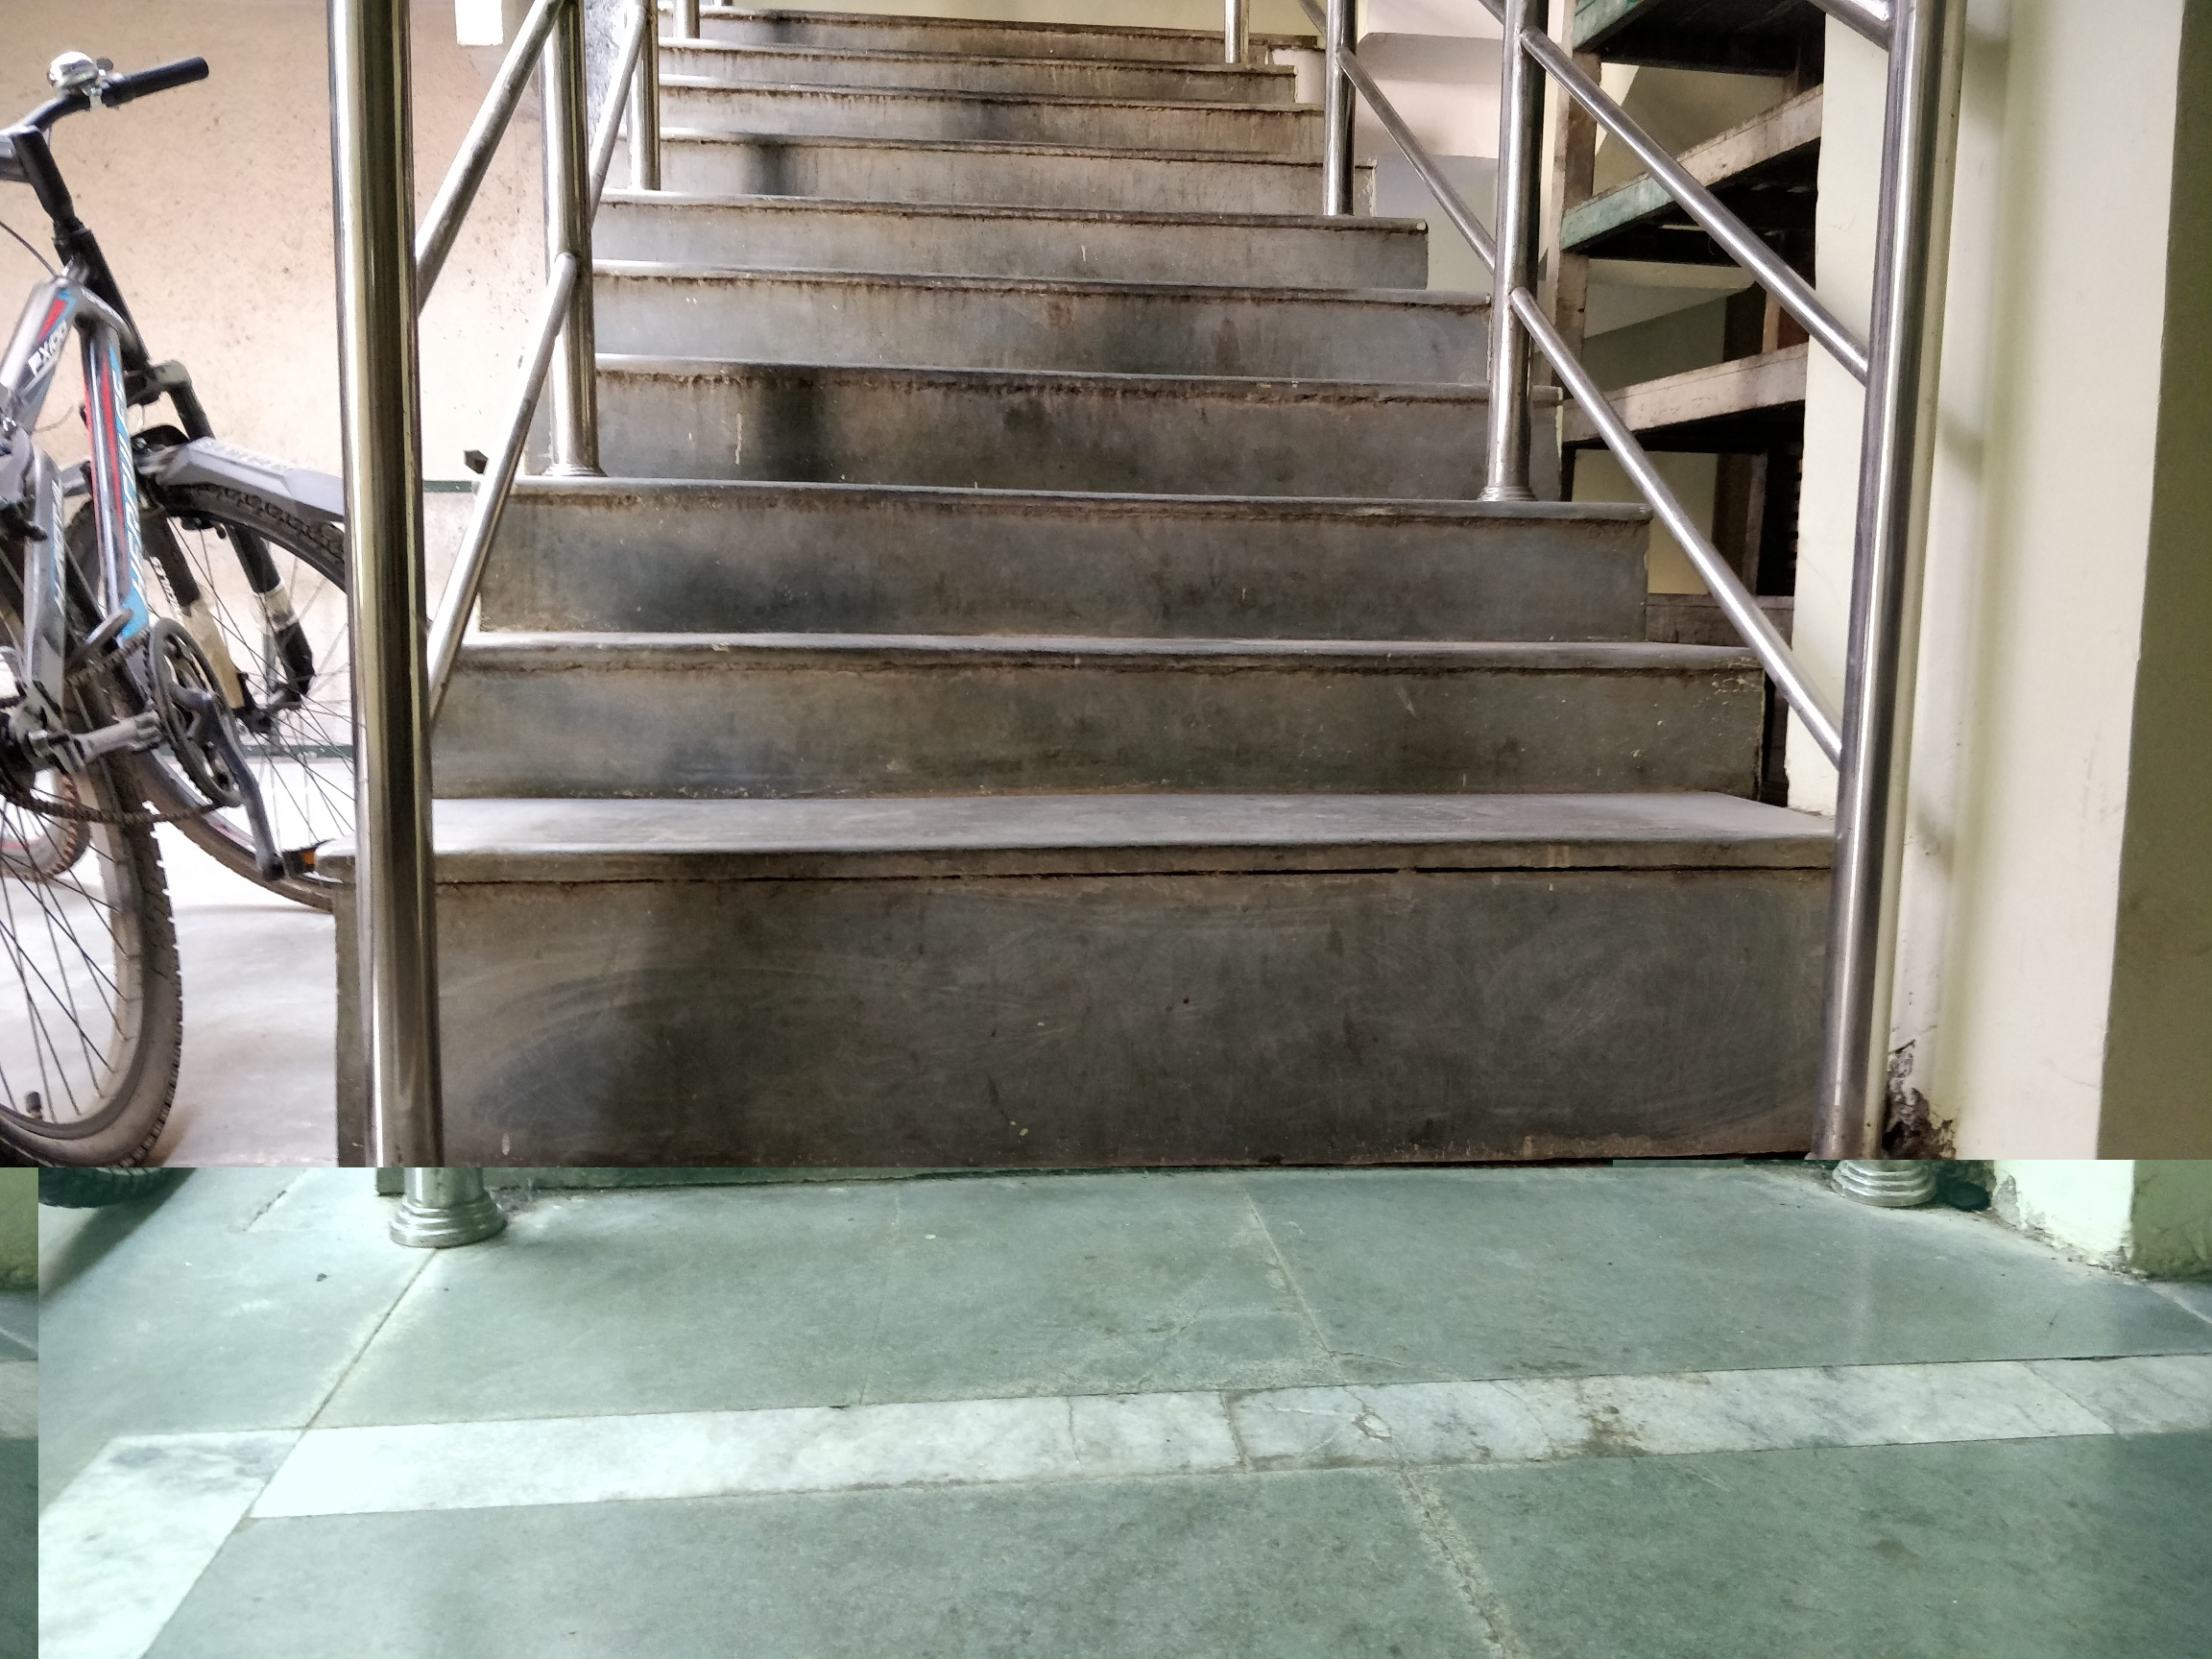stairs_up: (418, 96, 1853, 1145)
